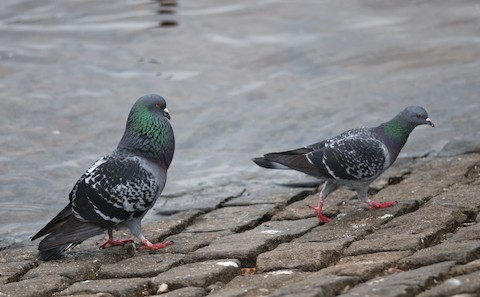pigeon: (27, 90, 193, 261), (249, 103, 437, 229)
